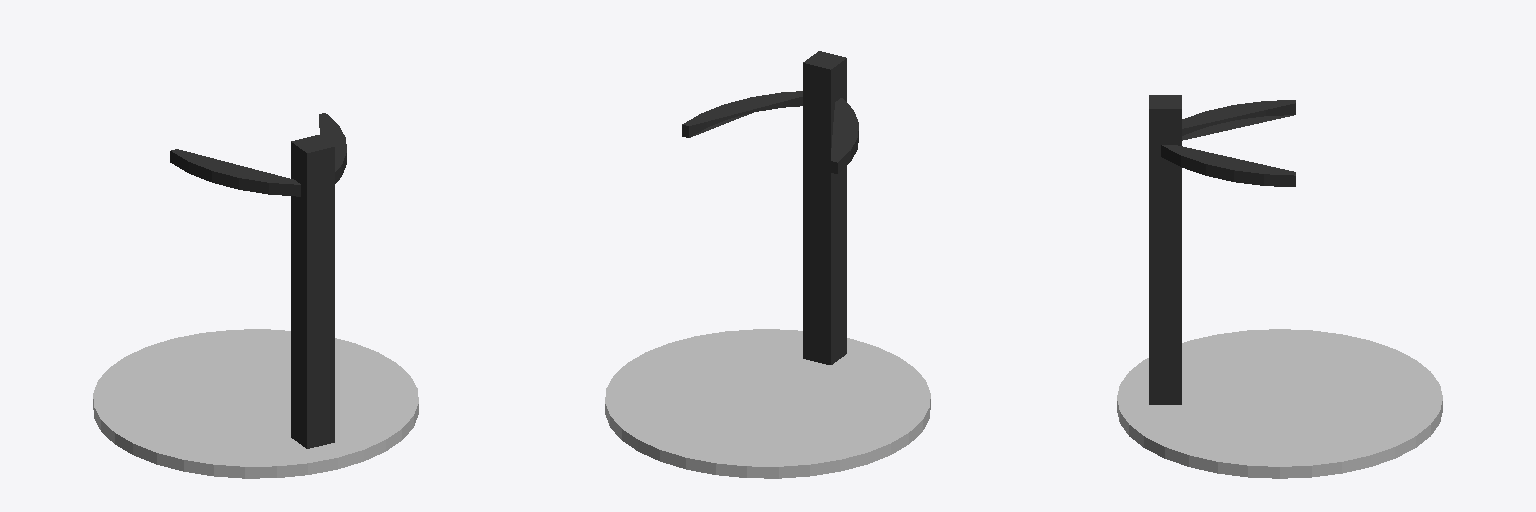
The model's file is pad.obj.
3 renders of one model, left to right at view 1: azimuth 30°, elevation 25°; view 2: azimuth 150°, elevation 25°; view 3: azimuth 270°, elevation 25°, orthographic.
Visible parts, largest first — view 1: Cylinder, Cube, Cylinder.001, Cylinder.002; view 2: Cylinder, Cube, Cylinder.002, Cylinder.001; view 3: Cylinder, Cube, Cylinder.002, Cylinder.001.
Boxes of the visible parts, x1=… form: Cylinder: x1=93, y1=329, x2=418, y2=478; Cube: x1=291, y1=135, x2=334, y2=448; Cylinder.001: x1=170, y1=149, x2=300, y2=196; Cylinder.002: x1=319, y1=113, x2=346, y2=183; Cylinder: x1=605, y1=329, x2=930, y2=478; Cube: x1=803, y1=51, x2=846, y2=364; Cylinder.002: x1=682, y1=91, x2=802, y2=137; Cylinder.001: x1=831, y1=98, x2=858, y2=173; Cylinder: x1=1117, y1=329, x2=1442, y2=478; Cube: x1=1149, y1=95, x2=1181, y2=404; Cylinder.002: x1=1161, y1=145, x2=1295, y2=186; Cylinder.001: x1=1182, y1=100, x2=1295, y2=140.
Bounding box in the file's own units: 2 × 2.08 × 2.